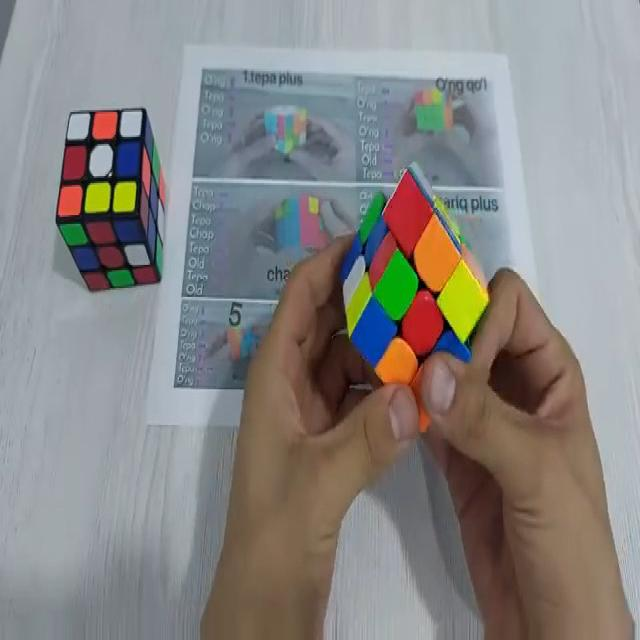Rub: (336, 165, 486, 430), (56, 105, 168, 291)
